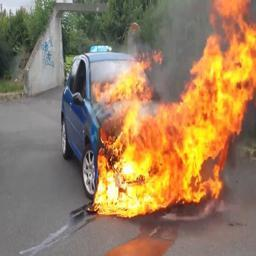fire: (92, 0, 256, 216)
